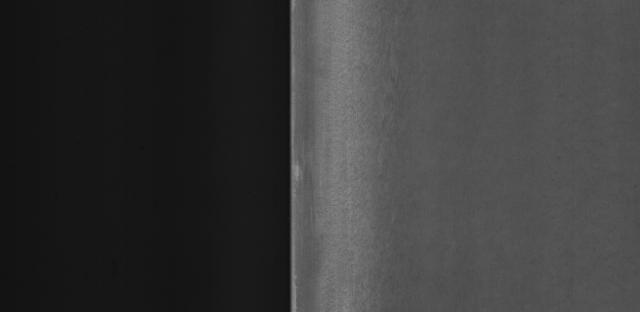silk_spot: (344, 22, 450, 288)
